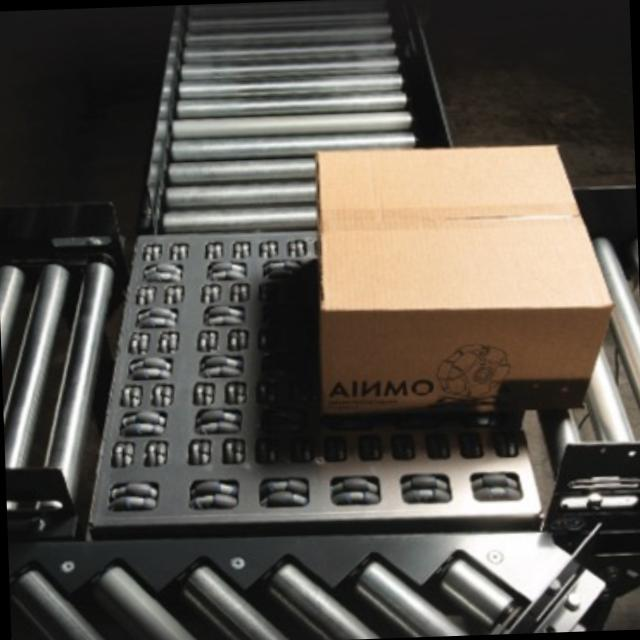box: (309, 141, 608, 417)
